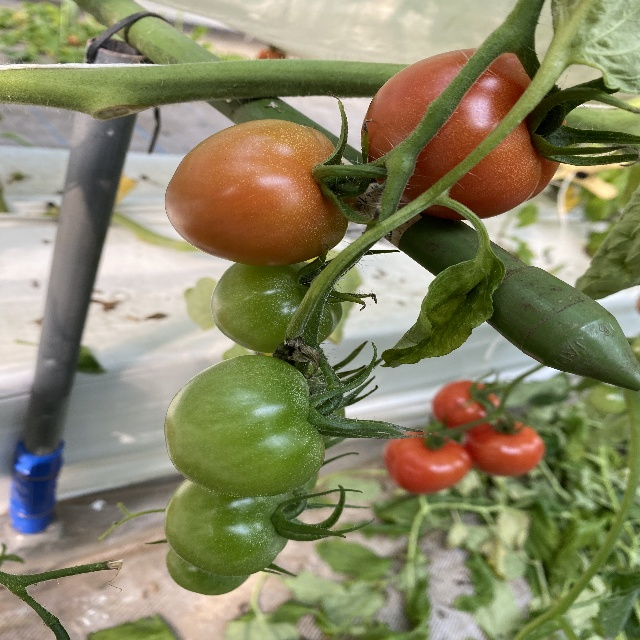l_fully_ripened: (360, 48, 567, 221)
l_green: (164, 354, 326, 497), (164, 478, 295, 575), (210, 261, 344, 354), (166, 549, 250, 595)
l_half_ripened: (164, 119, 356, 266)
